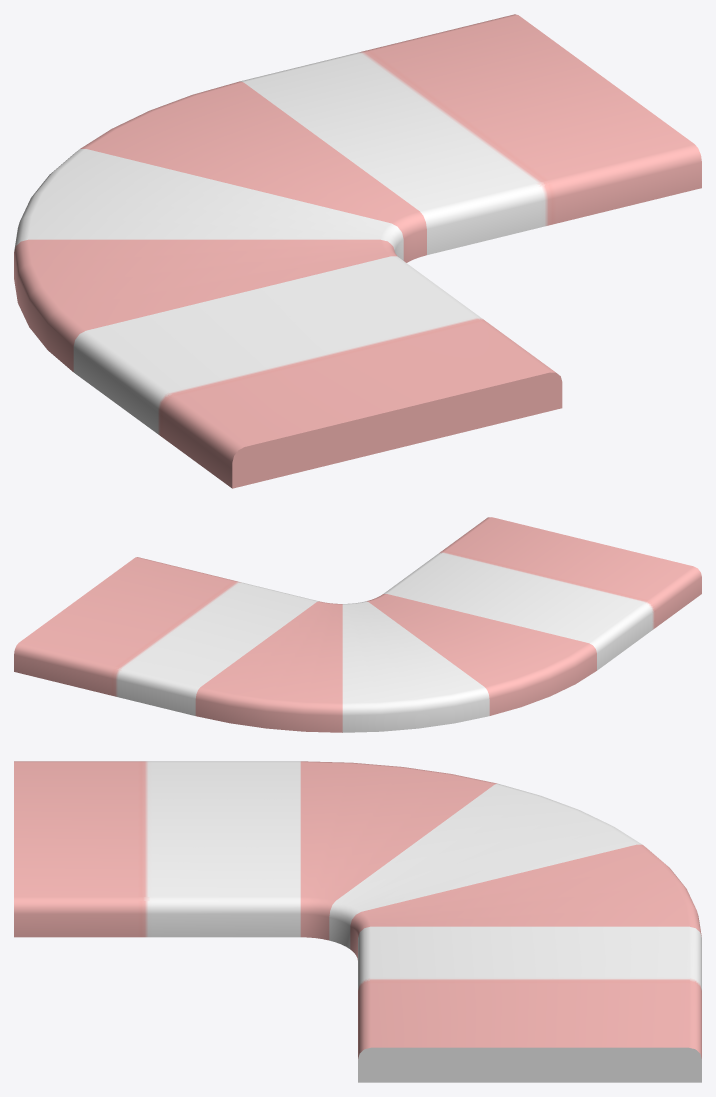
Rendered from RoadTurn_red.fbx.
3 renders of one model, top to bottom at view 1: azimuth 30°, elevation 25°; view 2: azimuth 150°, elevation 25°; view 3: azimuth 270°, elevation 25°, orthographic. The views are drawn at different scales.
Visible parts, largest first — view 1: RoadTurn_red; view 2: RoadTurn_red; view 3: RoadTurn_red.
Part boxes in pixels (x1,y1,x2,y2): RoadTurn_red: (14,14,701,488); RoadTurn_red: (14,517,701,732); RoadTurn_red: (14,761,701,1082).
Bounding box in the file's own units: 600 × 33.61 × 600.
1 material, 1 textured.
